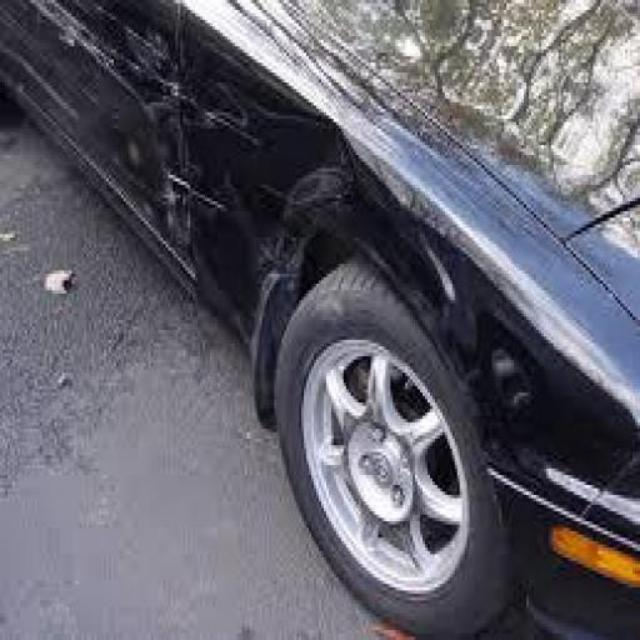rub: (154, 162, 238, 277)
